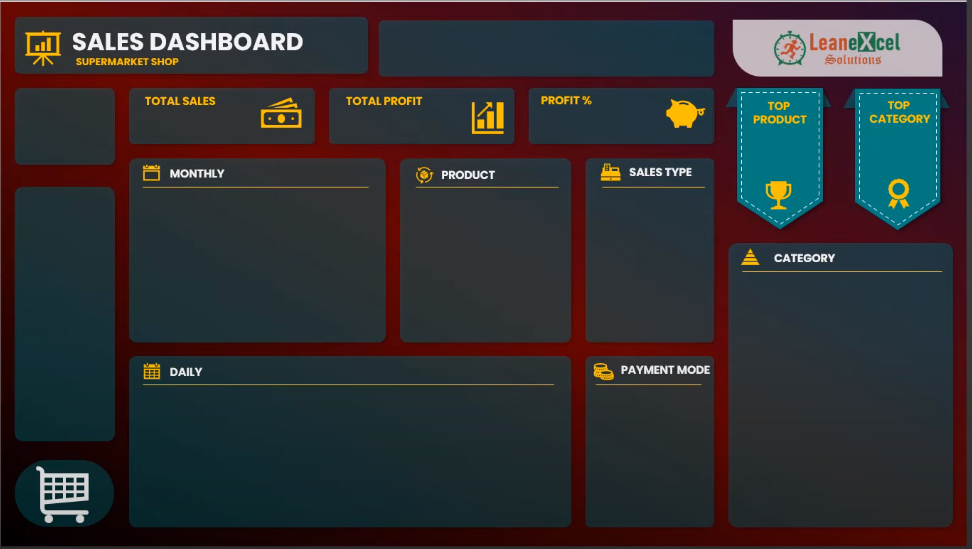

The page's visual inventory and layout, read from the dashboard file:
{"tool":"powerbi","page":{"name":"Page 1","canvas":[1280,720],"ordinal":0},"visuals":[{"type":"slicer","title":"Year","fields":{"Values":["InputData.Year"]},"box":[20,118.3,128.3,96.9],"z":0},{"type":"slicer","fields":{"Values":["InputData.SALE TYPE"]},"box":[500.3,32.8,209.5,68.4],"z":1000},{"type":"slicer","title":"Month","fields":{"Values":["InputData.Month Name"]},"box":[20,243.7,128.3,329.3],"z":2000},{"type":"slicer","fields":{"Values":["InputData.PAYMENT MODE"]},"box":[721.2,32.8,206.7,62.7],"z":3000},{"type":"card","fields":{"Values":["Sum(InputData.Total selling Value)"]},"box":[171,141.1,134,42.8],"z":4000},{"type":"card","fields":{"Values":["Sum(InputData.QUANTITY)"]},"box":[935.1,141.1,163.9,85.5],"z":5000},{"type":"card","fields":{"Values":["Sum(InputData.Total selling Value)"]},"box":[945,172.5,175.3,85.5],"z":6000},{"type":"card","fields":{"Values":["Sum(InputData.Total selling Value)"]},"box":[1140.3,155.4,89.8,88.4],"z":7000},{"type":"card","fields":{"Values":["Avg(InputData.profit)"]},"box":[417.6,141.1,163.9,42.8],"z":8000},{"type":"card","fields":{"Values":["Min(InputData.MasterData.UOM)"]},"box":[1034.8,141.1,47,88.4],"z":9000},{"type":"card","fields":{"Values":["Avg(InputData.Profit %)"]},"box":[684.2,134,126.9,55.6],"z":10000},{"type":"columnChart","fields":{"Category":["InputData.Month Name"],"Y":["Sum(InputData.Total selling Value)","CountNonNull(InputData.profit)"]},"box":[171,242.3,336.4,216.7],"z":11000},{"type":"clusteredBarChart","fields":{"Category":["InputData.MasterData.PRODUCT"],"Y":["Sum(InputData.Total selling Value)"]},"box":[524.4,242.4,222.5,202.7],"z":12000},{"type":"areaChart","fields":{"Category":["InputData.Day"],"Y":["Sum(InputData.Total selling Value)"]},"box":[171.5,508.8,576.9,172.9],"z":12001},{"type":"donutChart","fields":{"Y":["Sum(InputData.Total selling Value)"],"Category":["InputData.SALE TYPE"]},"box":[776.7,243.8,158.7,201.3],"z":12002},{"type":"donutChart","fields":{"Y":["Sum(InputData.Total selling Value)"],"Category":["InputData.PAYMENT MODE"]},"box":[776.7,508.8,158.7,172.9],"z":12003},{"type":"treemap","fields":{"Group":["InputData.MasterData.CATEGORY"],"Values":["Sum(InputData.Total selling Value)"]},"box":[969.3,360.6,282.2,333.5],"z":12004}]}

Visuals, with their boxes in screenshot pixels (x1, y1, x2, y2), scaled from the page's 1280x720 canvas onto the 972x549 screenshot:
"Year" slicer: <box>15,90,113,164</box>
slicer - InputData.SALE TYPE: <box>380,25,539,77</box>
"Month" slicer: <box>15,186,113,437</box>
slicer - InputData.PAYMENT MODE: <box>548,25,705,73</box>
card - Sum(InputData.Total selling Value): <box>130,108,232,140</box>
card - Sum(InputData.QUANTITY): <box>710,108,835,173</box>
card - Sum(InputData.Total selling Value): <box>718,132,851,197</box>
card - Sum(InputData.Total selling Value): <box>866,118,934,186</box>
card - Avg(InputData.profit): <box>317,108,442,140</box>
card - Min(InputData.MasterData.UOM): <box>786,108,821,175</box>
card - Avg(InputData.Profit %): <box>520,102,616,145</box>
columnChart - InputData.Month Name x Sum(InputData.Total selling Value): <box>130,185,385,350</box>
clusteredBarChart - InputData.MasterData.PRODUCT x Sum(InputData.Total selling Value): <box>398,185,567,339</box>
areaChart - InputData.Day x Sum(InputData.Total selling Value): <box>130,388,568,520</box>
donutChart - Sum(InputData.Total selling Value) x InputData.SALE TYPE: <box>590,186,710,339</box>
donutChart - Sum(InputData.Total selling Value) x InputData.PAYMENT MODE: <box>590,388,710,520</box>
treemap - InputData.MasterData.CATEGORY x Sum(InputData.Total selling Value): <box>736,275,950,529</box>
